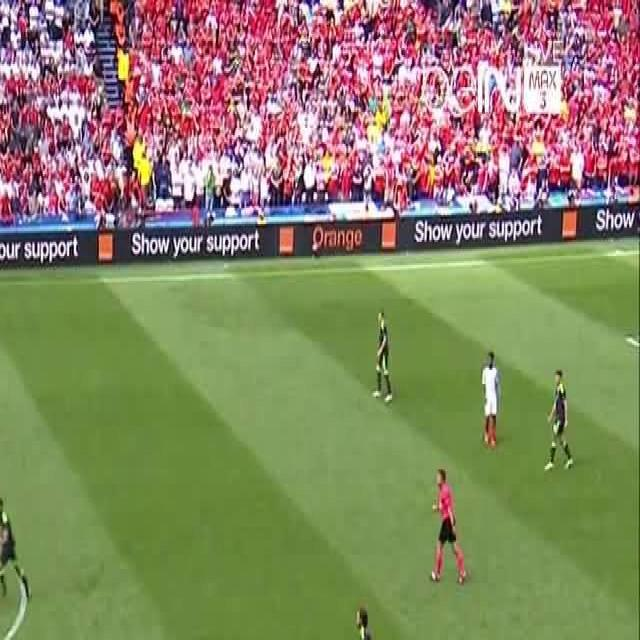player-white: (430, 470, 468, 588), (0, 496, 31, 599), (543, 371, 573, 472), (373, 309, 395, 406), (481, 349, 499, 448), (354, 604, 385, 640)
